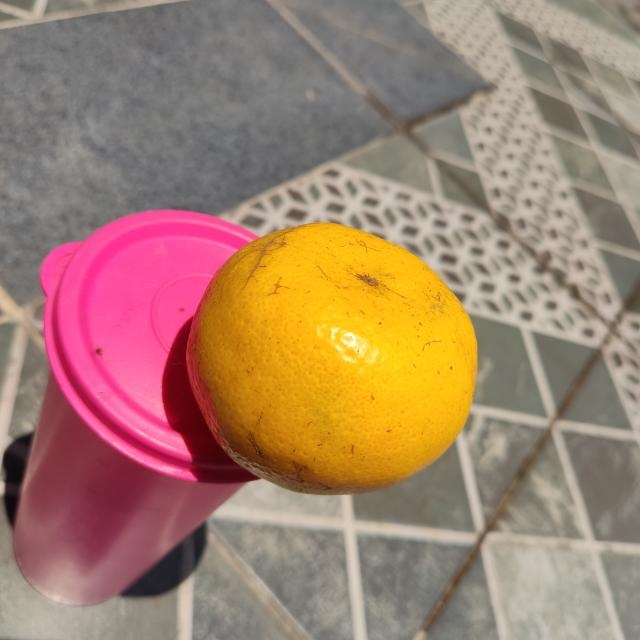agrume: (187, 220, 478, 495)
